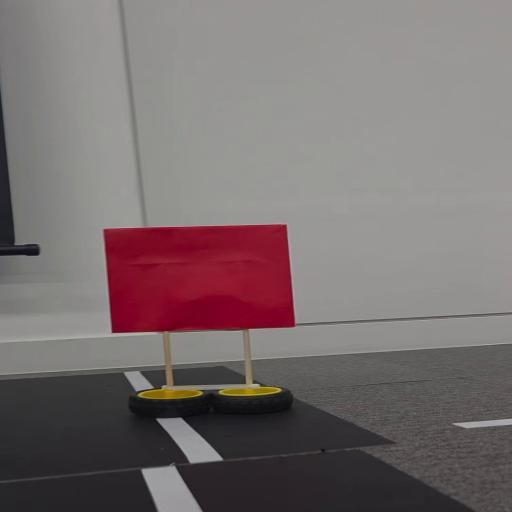Sign_A: (93, 223, 303, 418)
